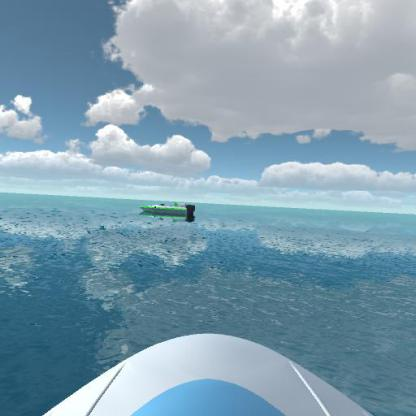usv0: (137, 199, 197, 223)
